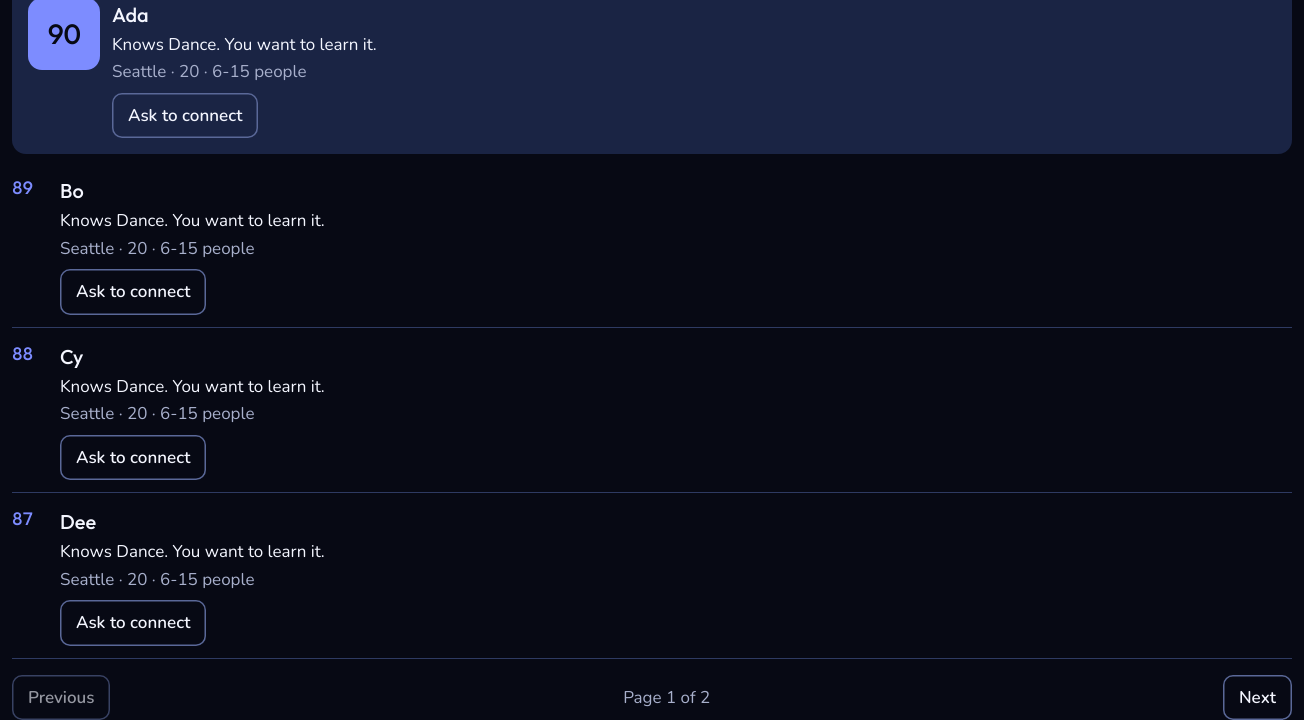
Test: shows the four closest people and pages through the rest
(page scrolled)
Check: the heading "Ada" is shown, box top-left (112, 2), bottom-right (149, 27)
Check: the heading "Bo" is shown, box top-left (60, 178), bottom-right (84, 203)
What coordinates should you click on to do the following:
click the button "Next"
I would click on:
 (1258, 697)
Its box is top-left (1223, 675), bottom-right (1292, 719).
(page scrolled)
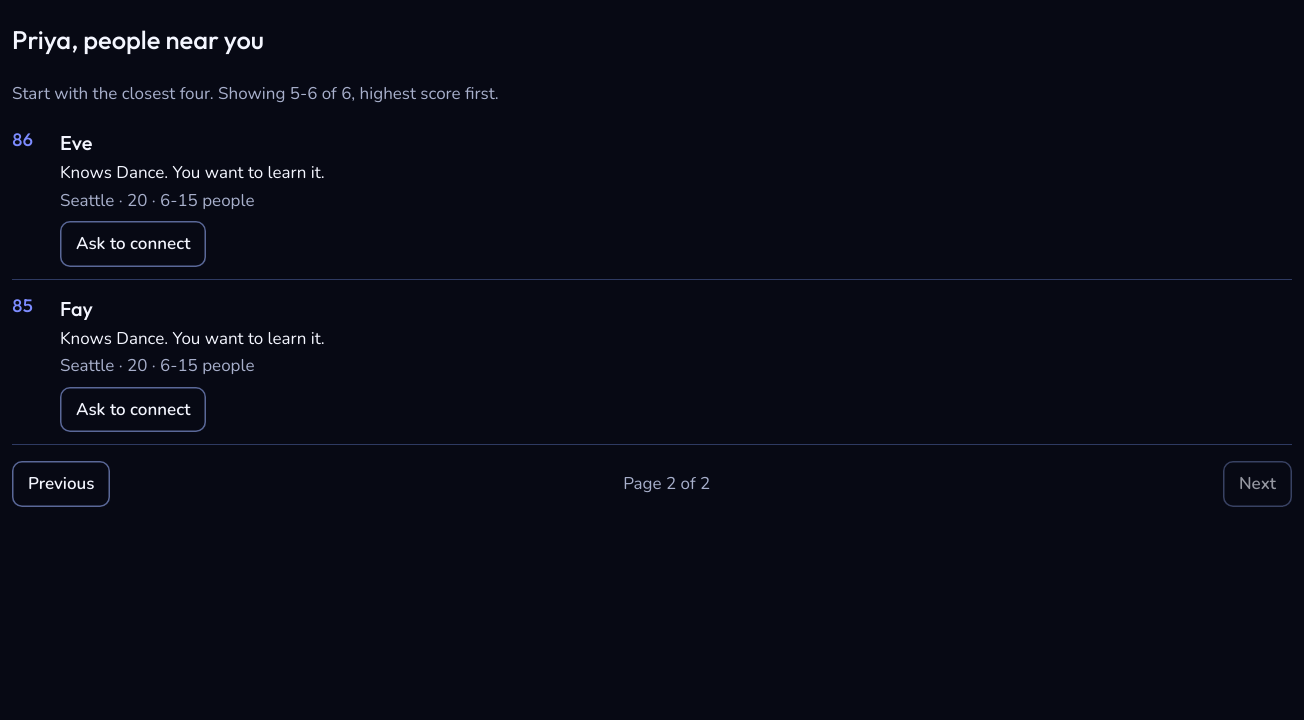
Check: the heading "Eve" is shown, box top-left (60, 130), bottom-right (92, 155)
Check: the heading "Fay" is shown, box top-left (60, 296), bottom-right (93, 321)
Check: the heading "Ada" is gone
What coordinates should you click on to do the following:
click the button "Previous"
I would click on:
 (61, 484)
Its box is top-left (12, 461), bottom-right (110, 507).
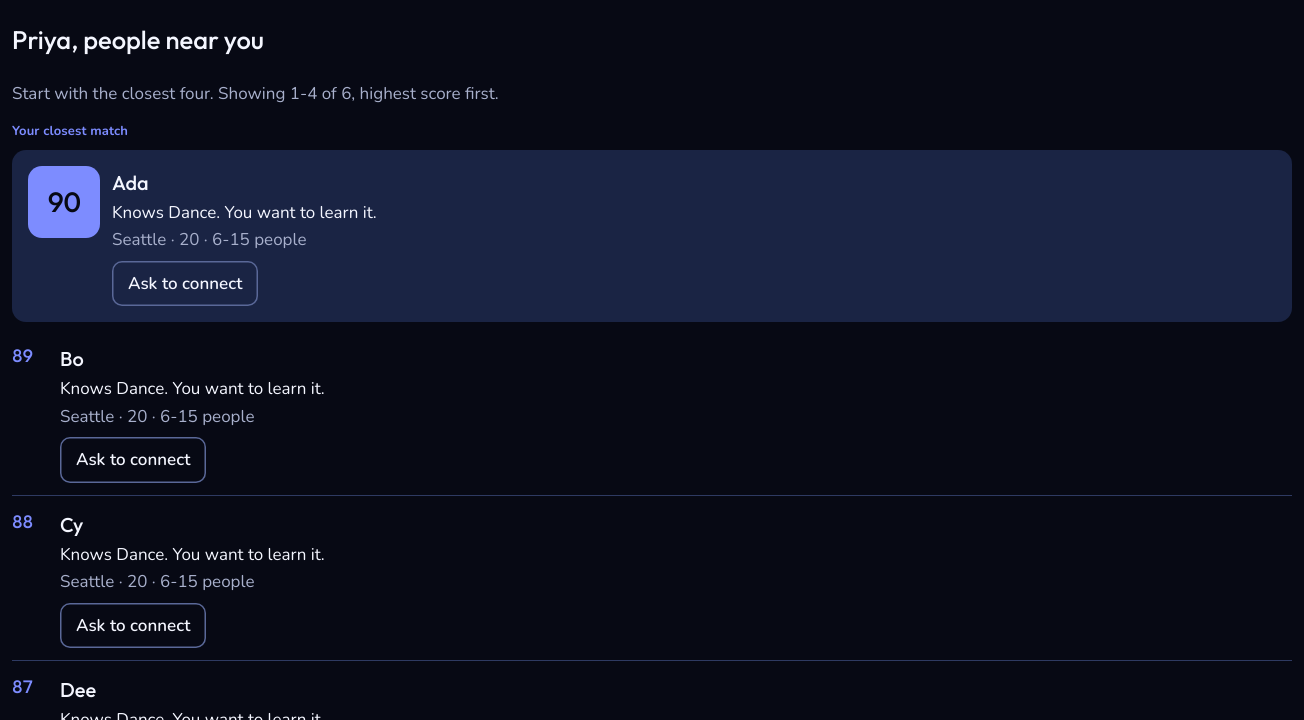
Check: the heading "Ada" is shown, box top-left (112, 170), bottom-right (149, 195)
Check: the heading "Eve" is gone
Check: the text "Showing 1-4 of 6" is shown, box top-left (12, 82), bottom-right (499, 105)
